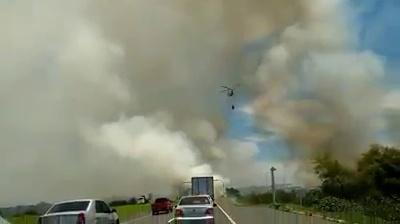smoke: (25, 6, 189, 177)
